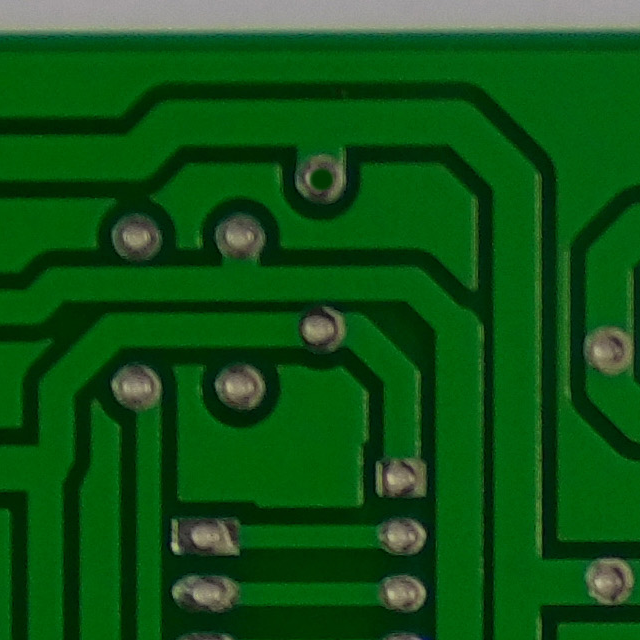missing_hole: (288, 146, 352, 206)
